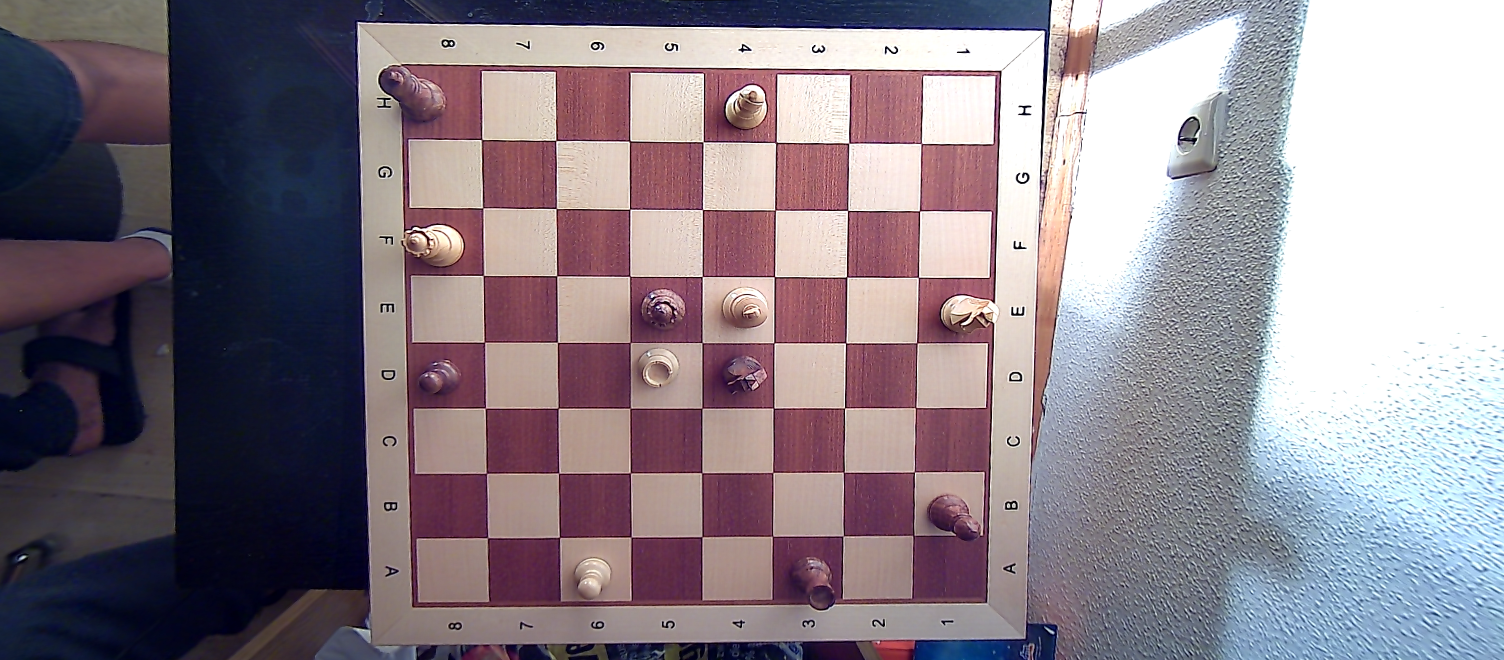black-bishop: (924, 488, 983, 545)
black-king: (376, 59, 451, 124)
black-knight: (715, 352, 771, 398)
black-pawn: (414, 353, 464, 399)
black-queen: (639, 285, 691, 333)
black-rook: (786, 551, 838, 614)
white-bishop: (719, 81, 770, 133)
white-king: (715, 281, 769, 330)
white-knight: (935, 291, 1001, 336)
white-pawn: (568, 551, 615, 600)
white-queen: (402, 218, 466, 270)
white-rook: (633, 346, 687, 392)
